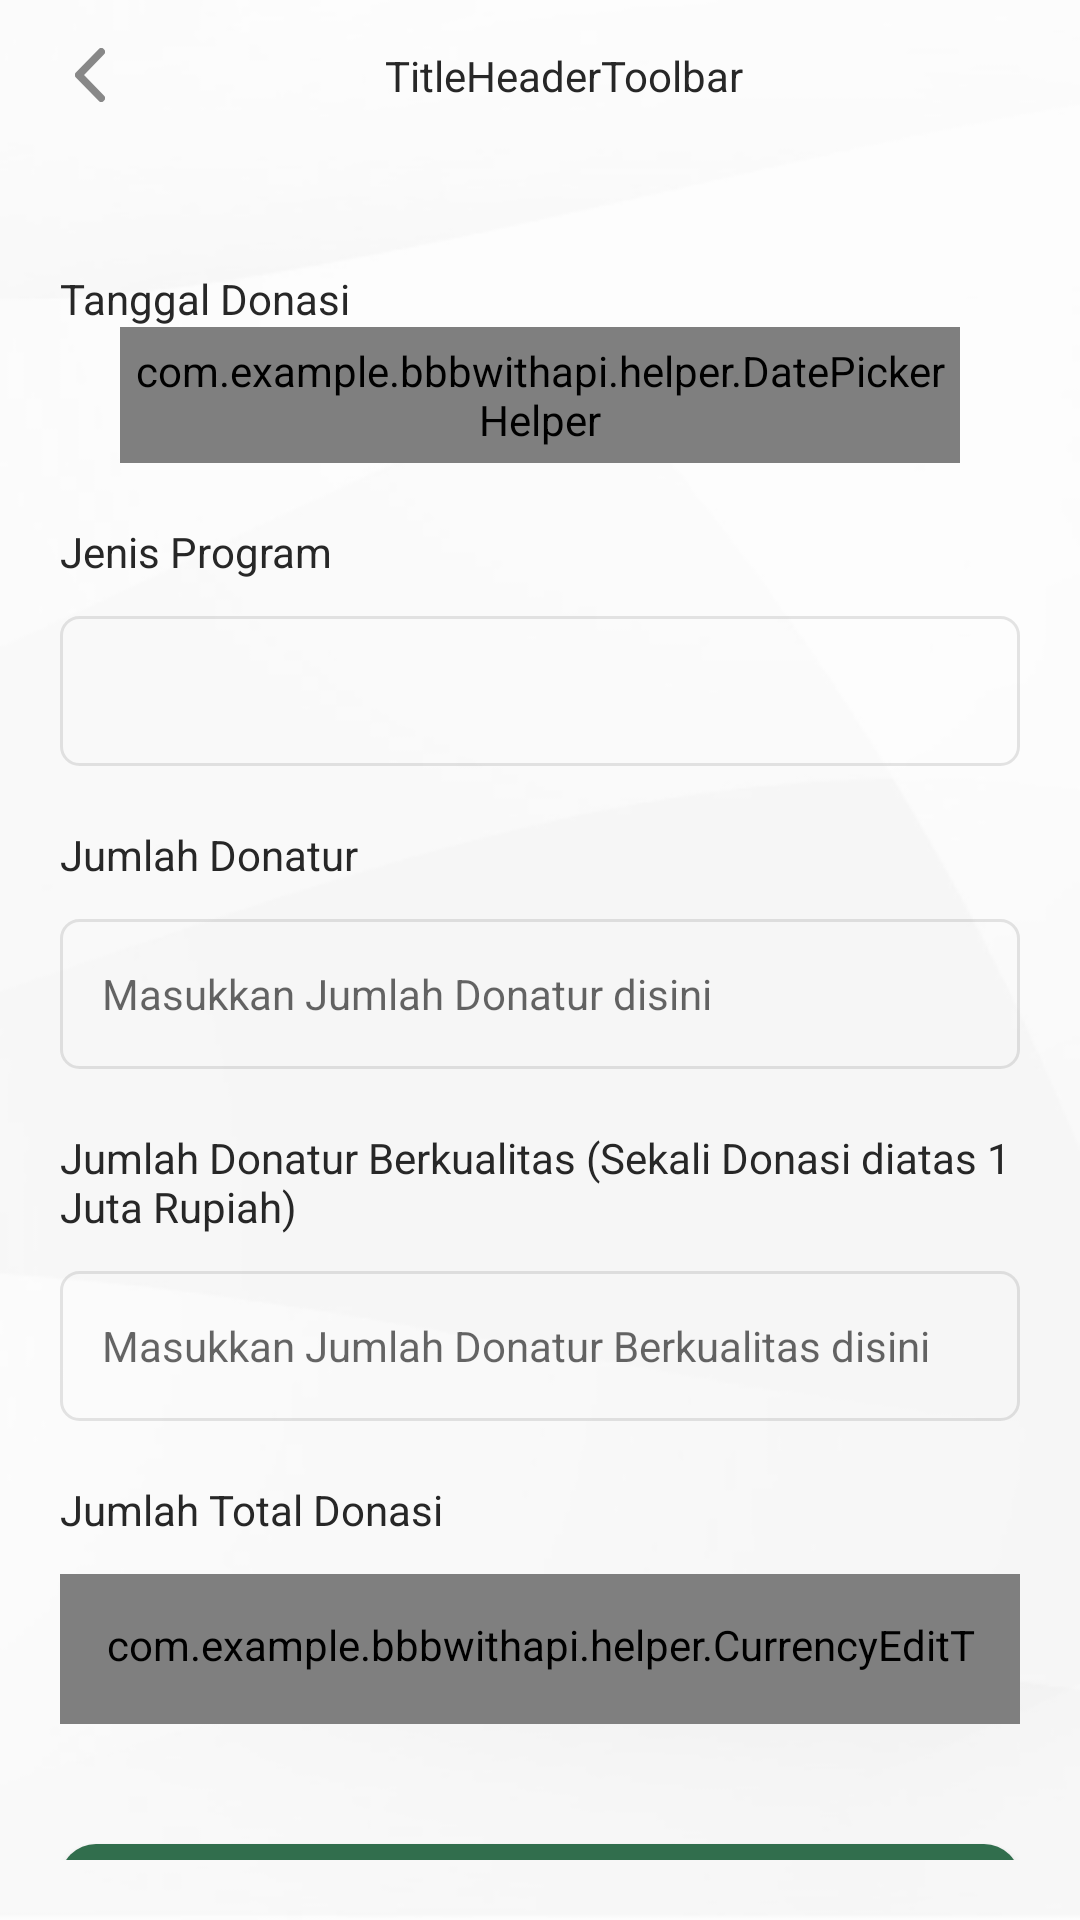

Locate icon controls on the screen. Image size 1080w x 1920h, boxes as region(x1, y1, x2, y2).
back: region(75, 48, 105, 102)
